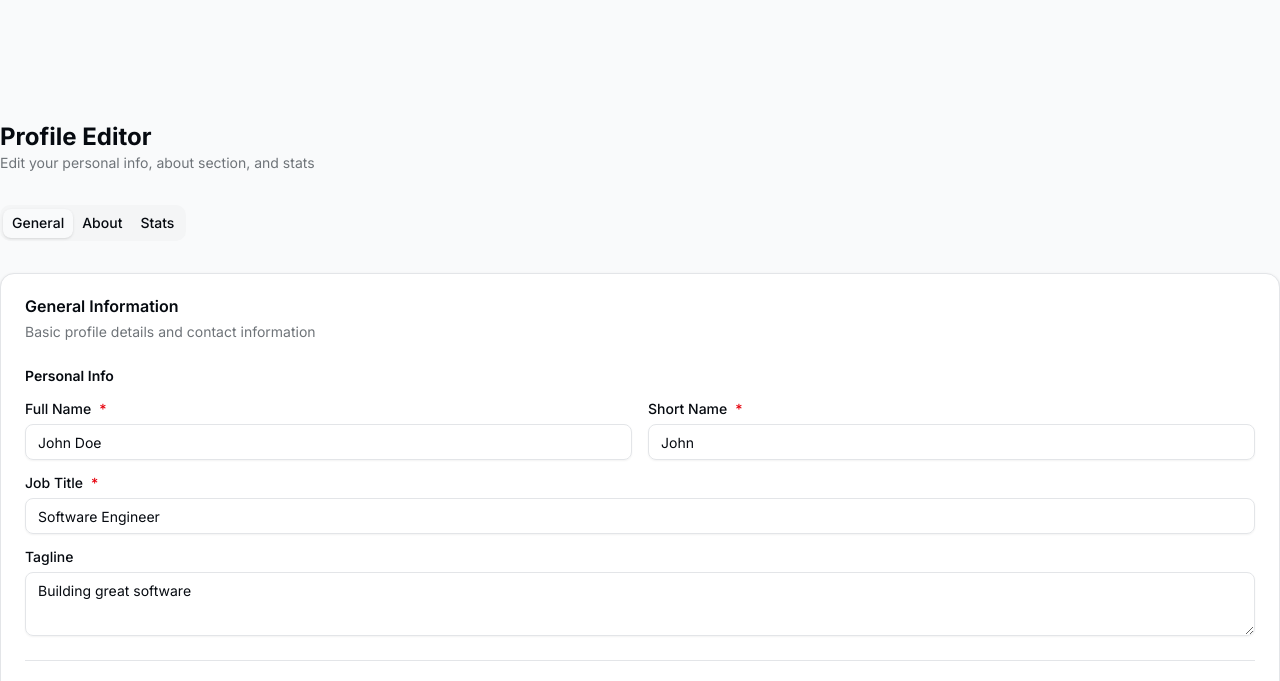
ProfileForm › saves about info successfully
The image size is (1280, 681).
Click the tab "About" at (102, 223), box [73,208,131,238]
(page scrolled)
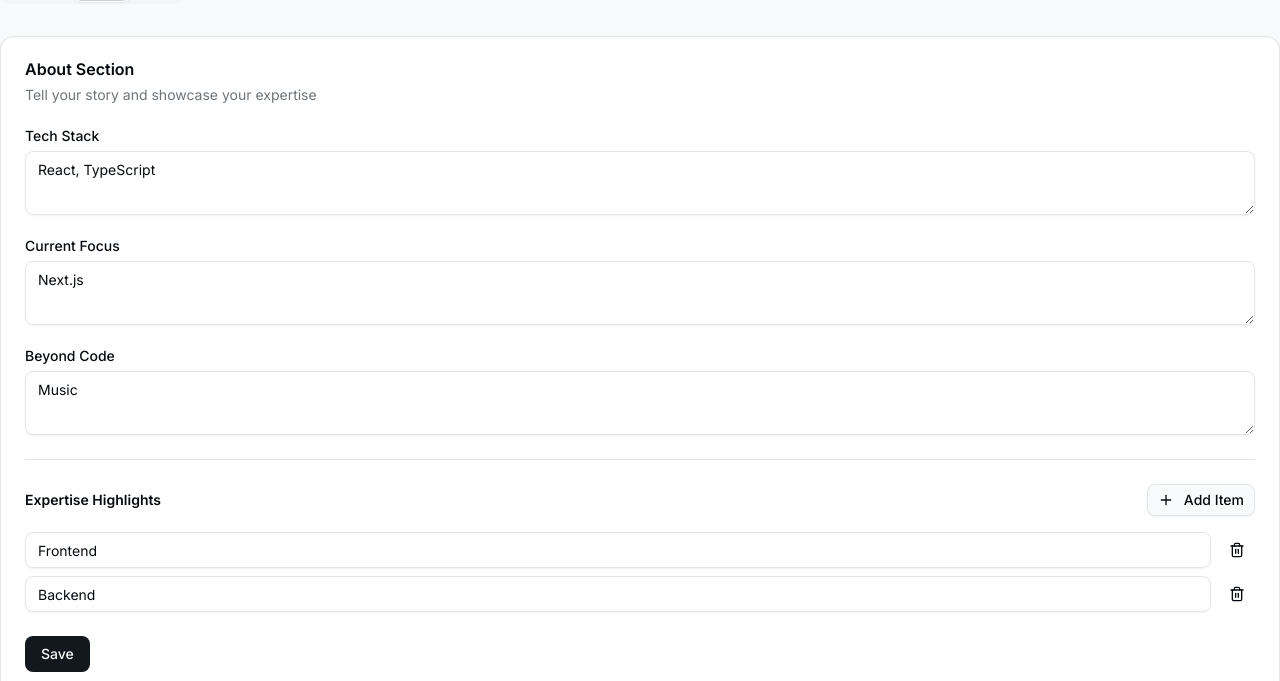
Click the button "Save" at (57, 654), box [25,636,90,672]
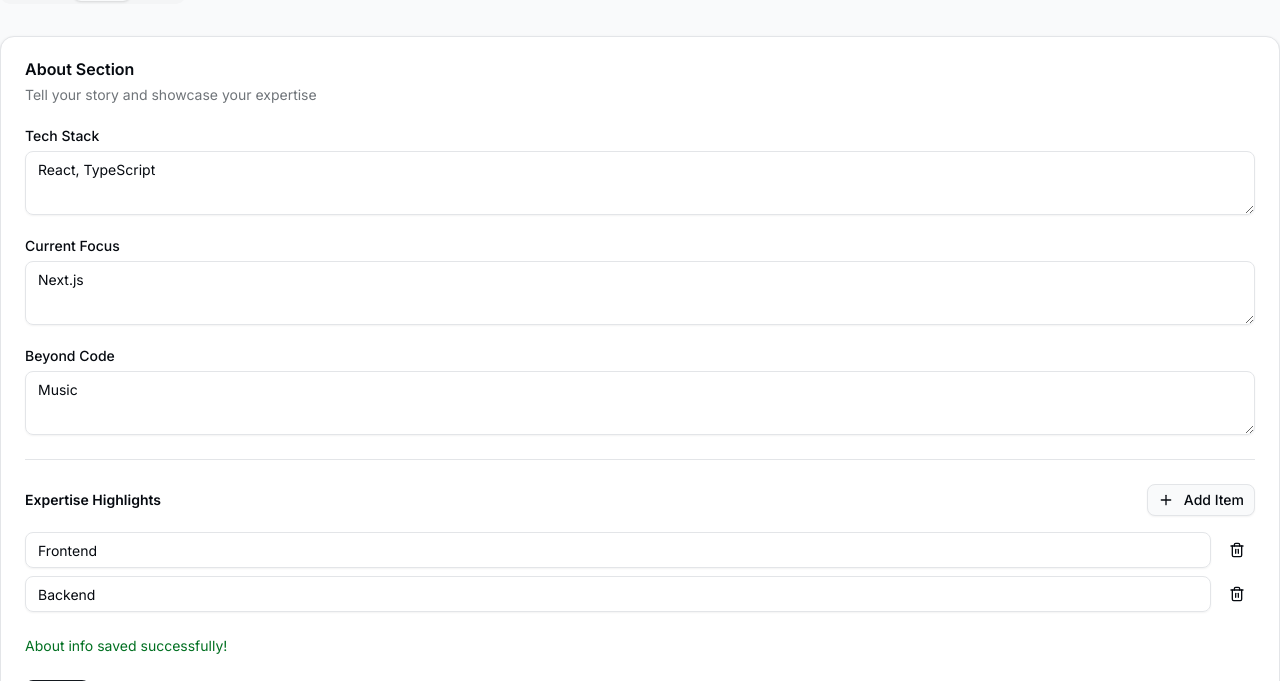
Now the text "About info saved successfully!" is shown, box [25,637,227,654]
